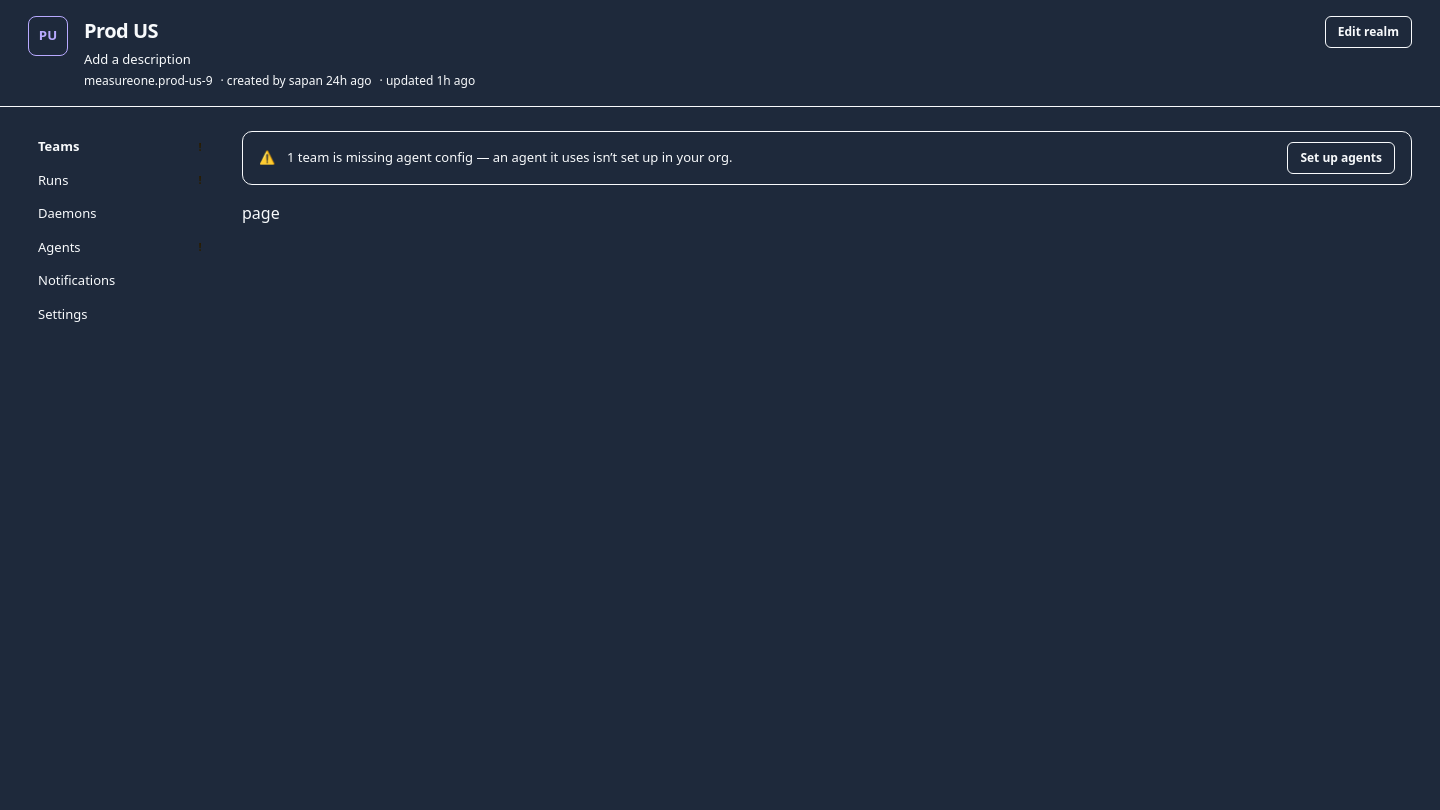
Test: Realm layout › with no description, an admin gets "Add a description" (opens Edit realm)
Click the button with test id "add-description". click: (137, 60)
box: [84,50,191,70]
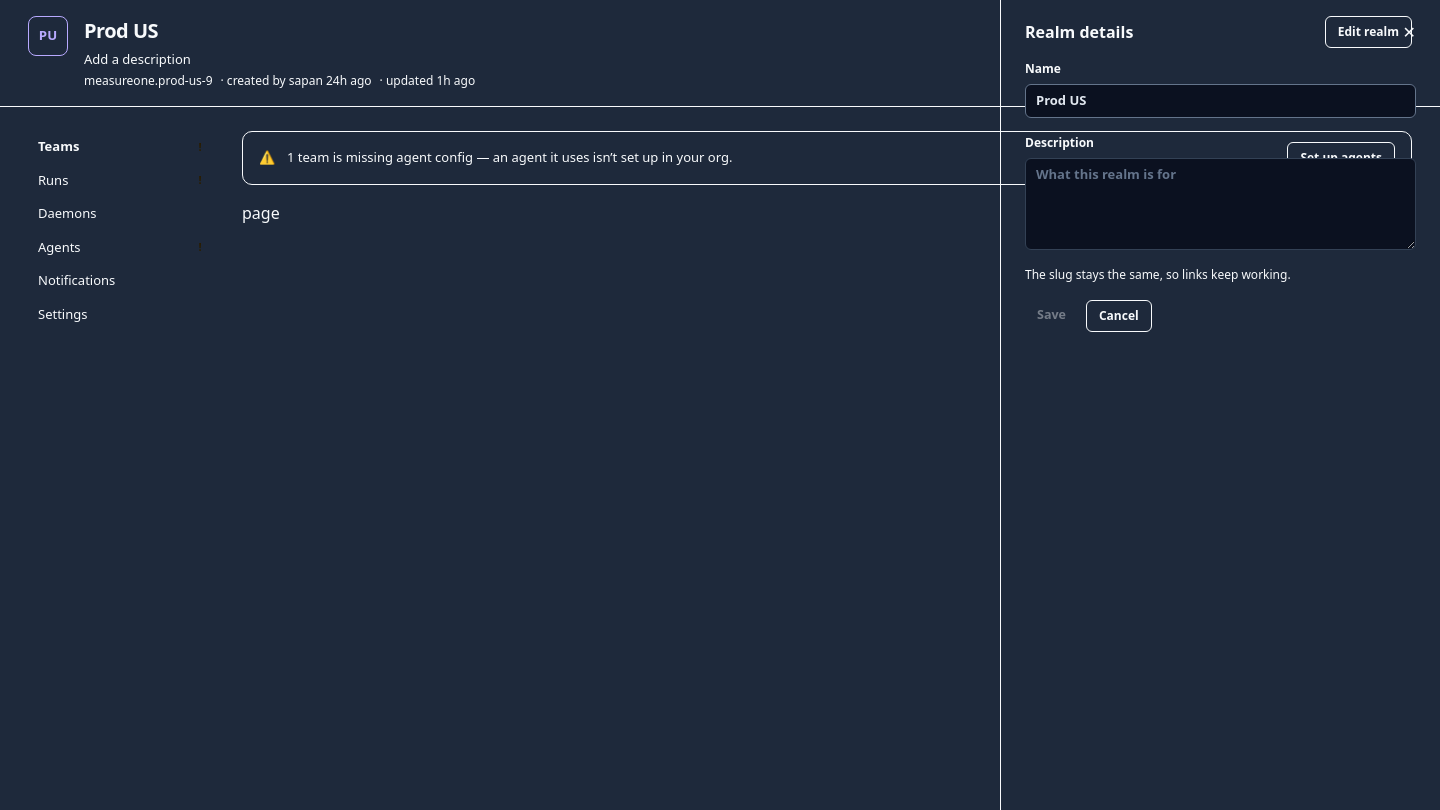
Check: the dialog "Realm details" is shown, box [1000,0,1439,809]
